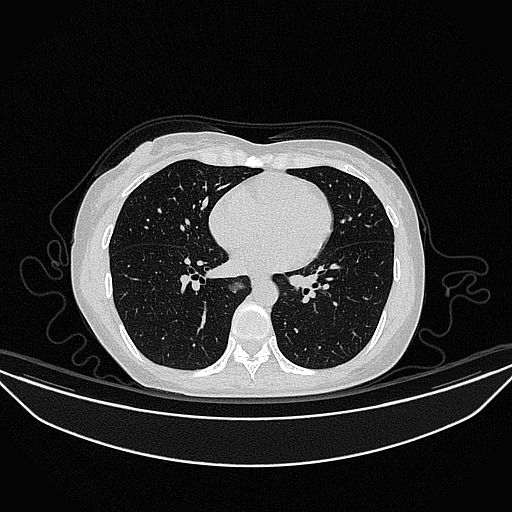nodule: (227, 281, 244, 292)
